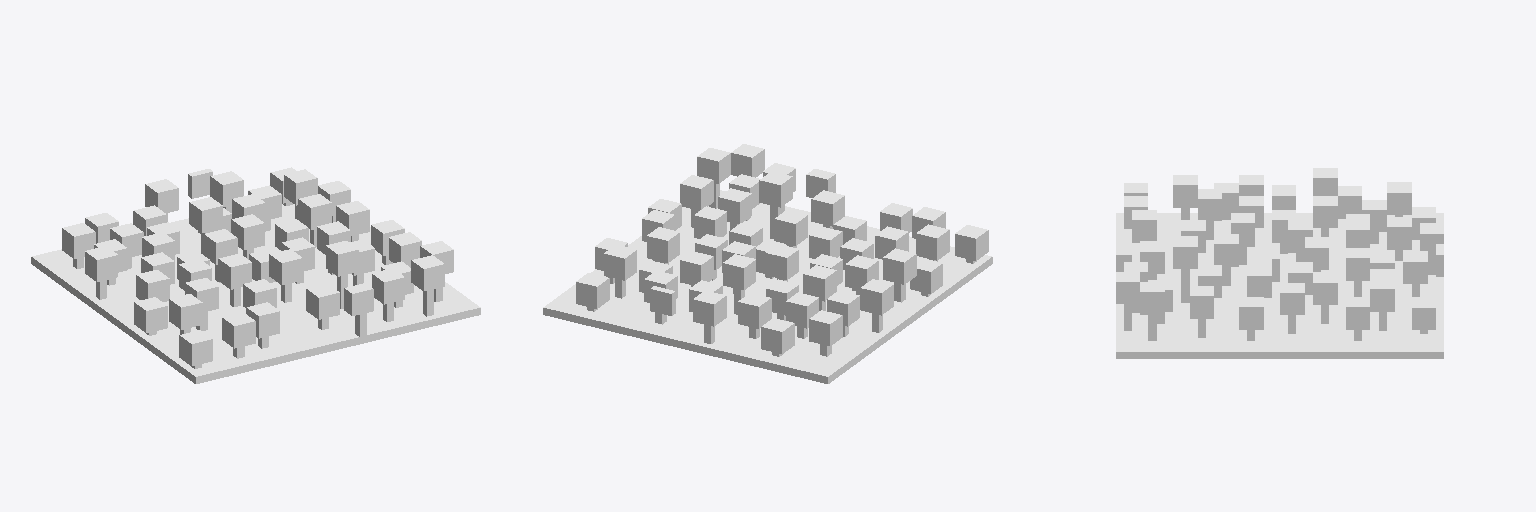
The model's file is groundtest.obj.
The picture shows the model from 3 angles: view 1: azimuth 30°, elevation 25°; view 2: azimuth 150°, elevation 25°; view 3: azimuth 270°, elevation 25°; orthographic projection.
Parts seen in each view (by area): view 1: object 1; view 2: object 1; view 3: object 1.
Boxes of the visible parts, <box> form: object 1: <box>31,167,480,383</box>; object 1: <box>543,144,992,383</box>; object 1: <box>1116,168,1443,358</box>.
Size of the model in its own units: 4 by 0.9 by 4.